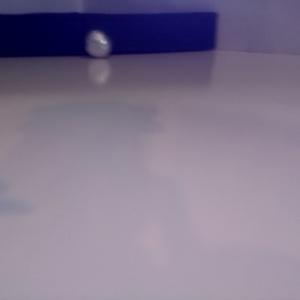zone: (1, 11, 217, 57)
